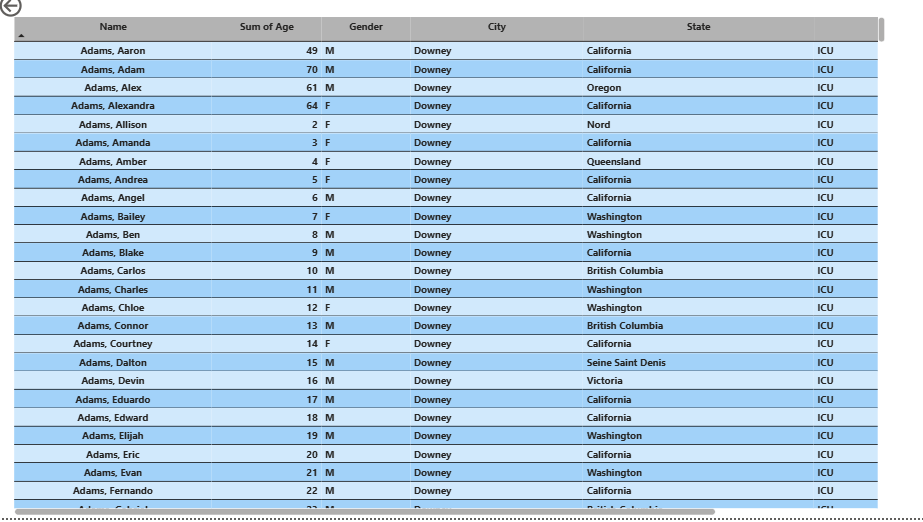

What the dashboard file says about the page in this screenshot:
{"tool":"powerbi","page":{"name":"Patients Details","canvas":[1280,720],"ordinal":2},"visuals":[{"type":"tableEx","fields":{"Values":["Detail data dataset.Name","Sum(Detail data dataset.Age)","Detail data dataset.Gender","Detail data dataset.City","Detail data dataset.State","Detail data dataset.Status"]},"box":[19.6,30.6,1199.2,689.4],"z":0},{"type":"actionButton","box":[0,0,100,40],"z":1000}]}

Visuals, with their boxes in screenshot pixels (x1, y1, x2, y2), scaled from the page's 1280x720 canvas onto the 923x522 screenshot:
tableEx - Detail data dataset.Name x Sum(Detail data dataset.Age): 14 22 879 521
actionButton: 0 0 72 29
